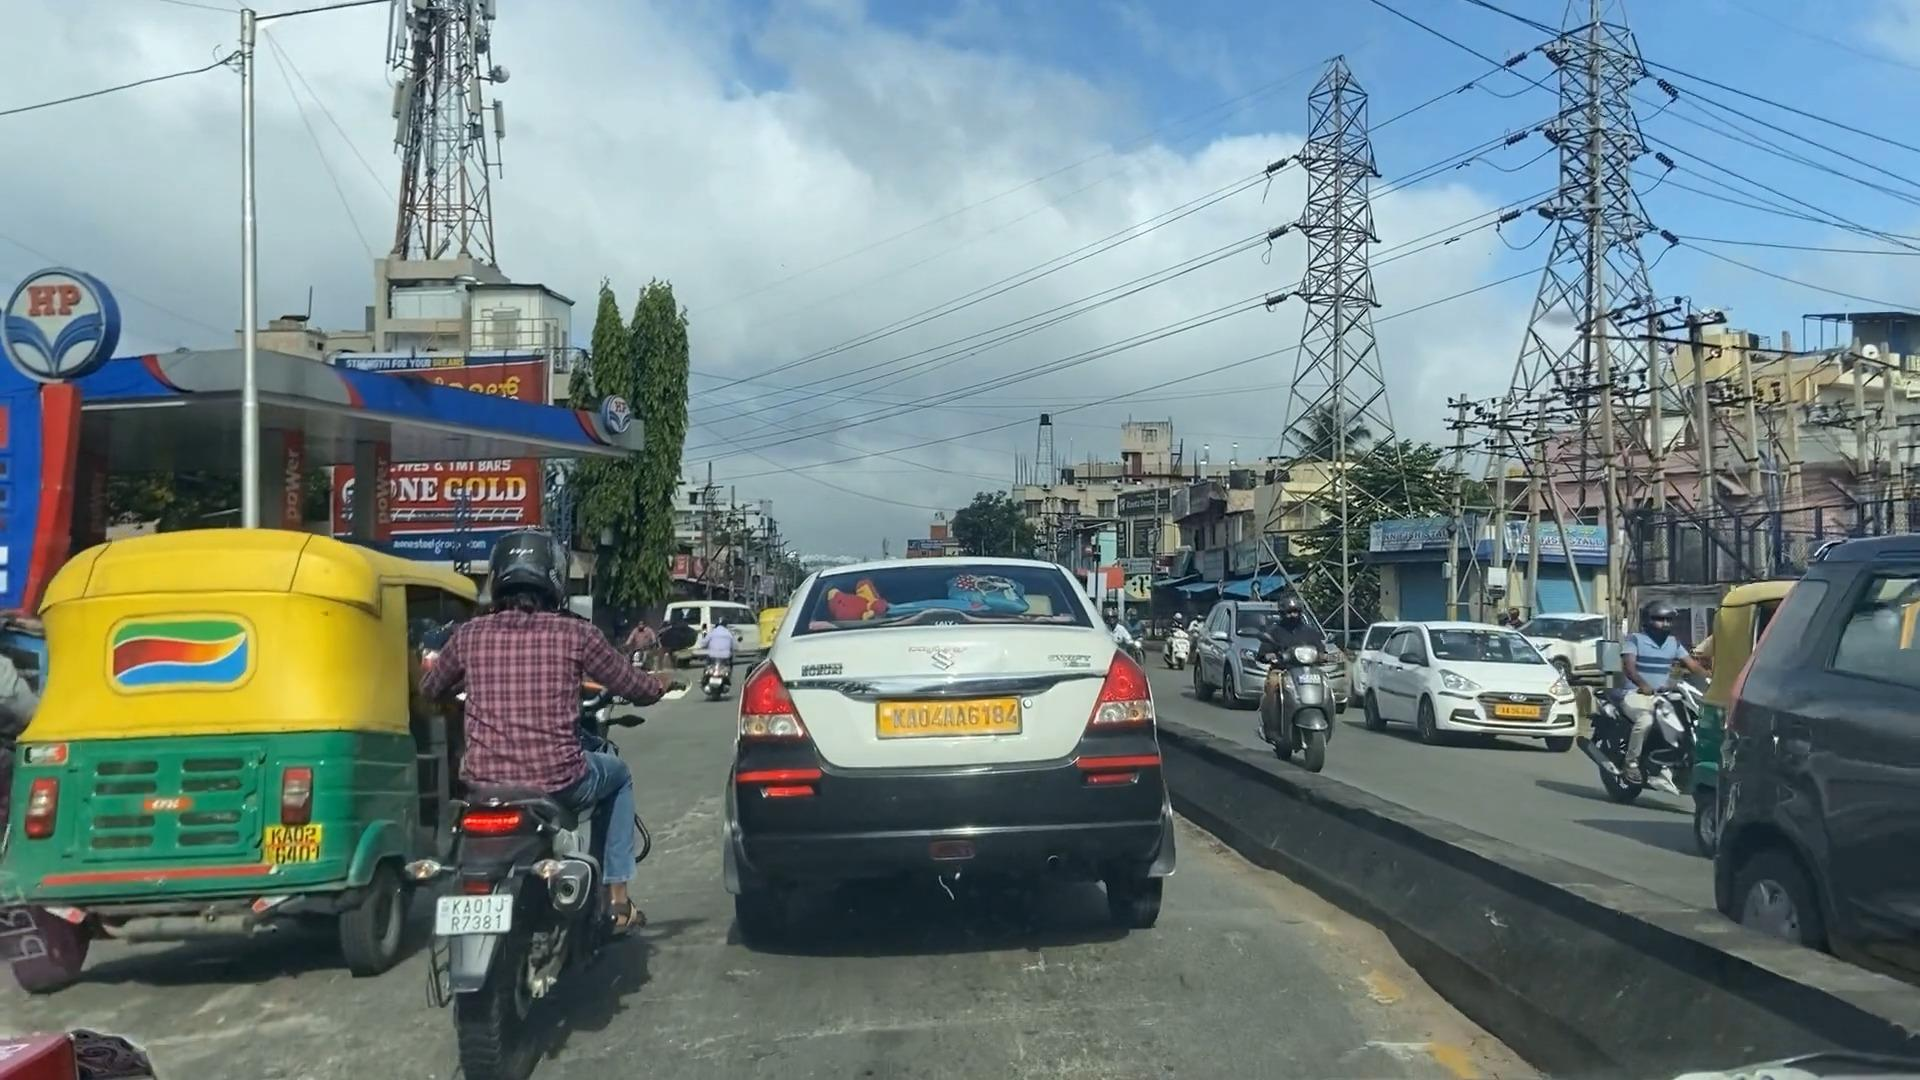LMV: (38, 518, 431, 975), (748, 558, 1183, 934), (427, 525, 634, 1080)
RoadDamages: (688, 961, 1213, 1072), (121, 985, 343, 1050)
